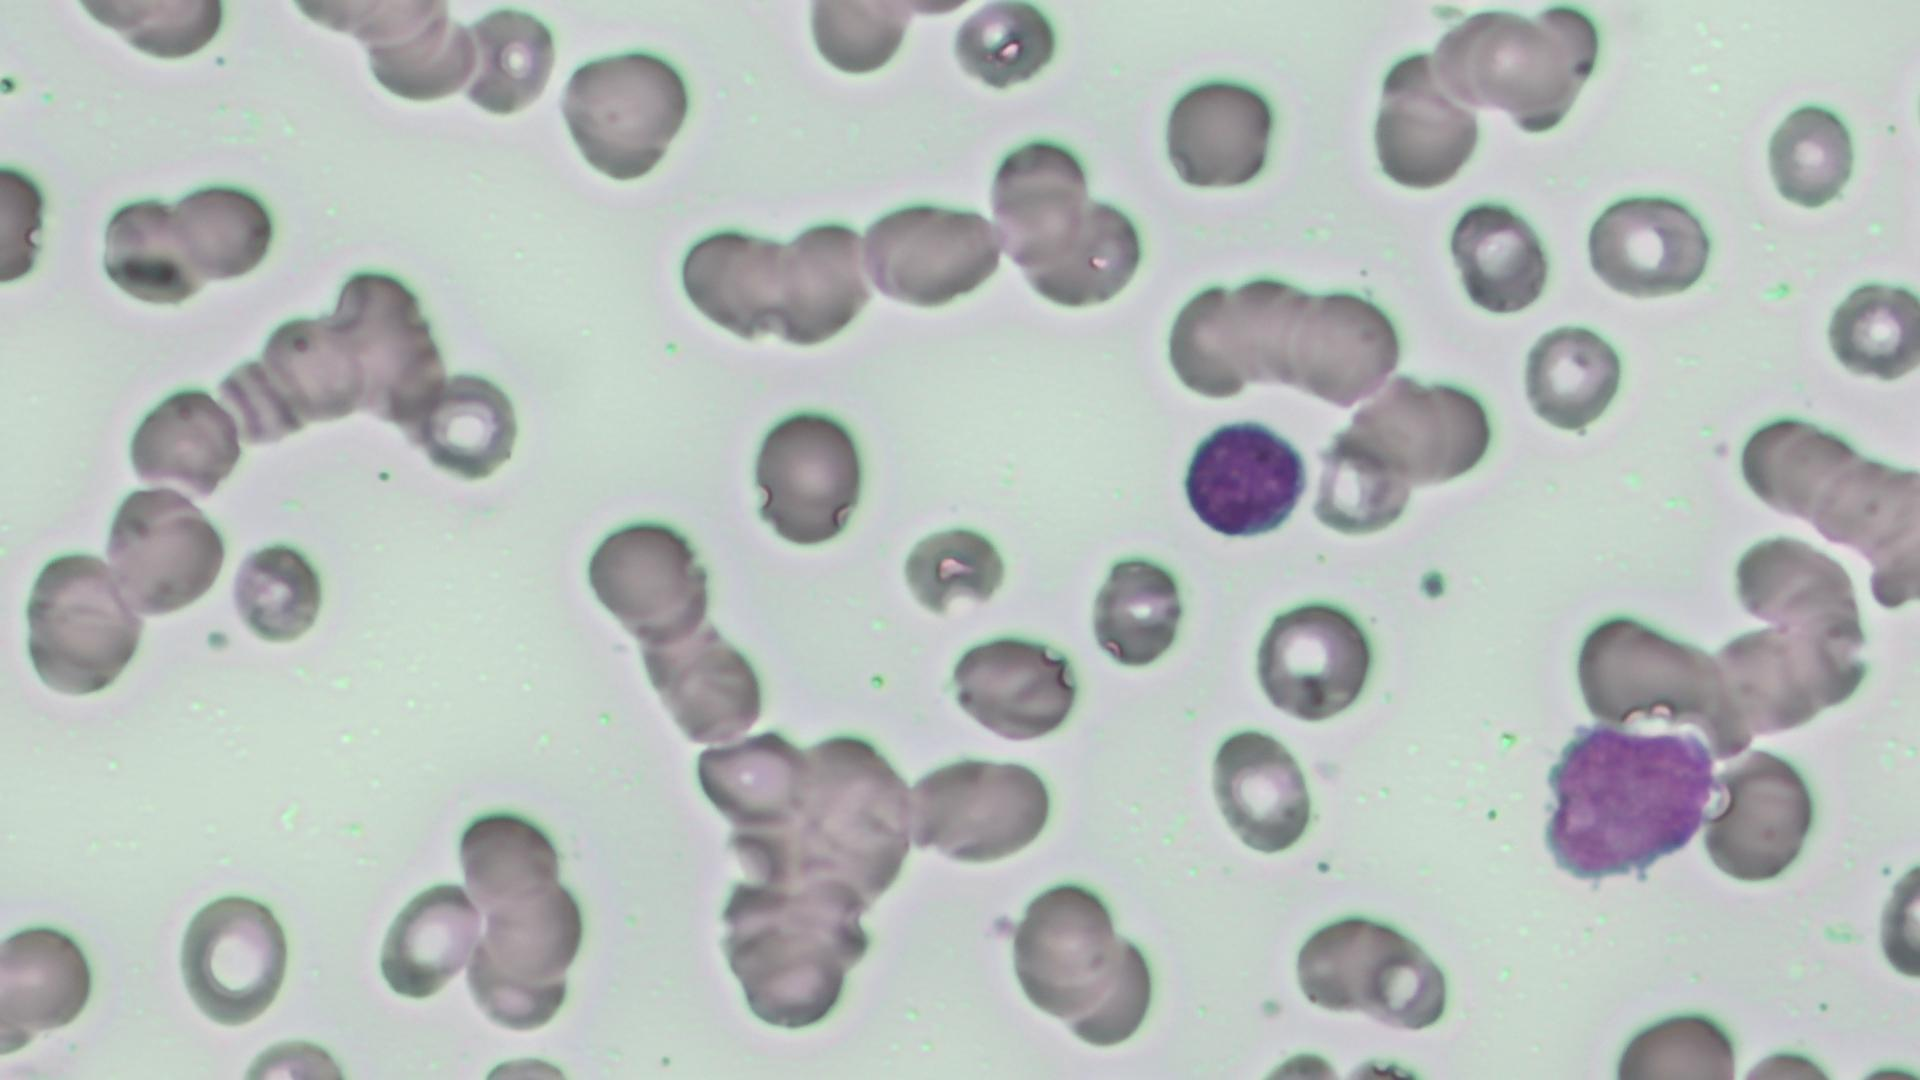Platelets: (1342, 1043, 1433, 1076), (1414, 564, 1455, 602)
RBC: (552, 38, 696, 190), (326, 259, 449, 436), (14, 543, 149, 699), (1334, 370, 1496, 492), (746, 400, 869, 550), (904, 749, 1058, 868), (854, 192, 1004, 313), (1287, 904, 1436, 1023), (1160, 273, 1297, 401), (99, 483, 226, 621), (171, 885, 294, 1026), (1006, 873, 1121, 1020), (1249, 592, 1378, 723), (942, 627, 1088, 742), (1701, 743, 1818, 886), (1154, 67, 1282, 197), (669, 224, 805, 346), (1582, 182, 1718, 303), (1460, 2, 1587, 130), (580, 509, 706, 634), (1515, 316, 1635, 447), (1205, 721, 1318, 857), (1288, 282, 1406, 410), (122, 381, 244, 500), (374, 873, 484, 1004), (1442, 196, 1557, 316), (1365, 70, 1480, 190), (470, 870, 590, 984), (261, 302, 366, 429), (96, 186, 206, 306), (1084, 549, 1191, 670), (451, 3, 557, 124), (1, 916, 100, 1045), (168, 172, 280, 283), (454, 800, 566, 910), (898, 514, 1012, 622), (1808, 449, 1916, 559), (1602, 1000, 1749, 1078), (798, 2, 918, 80), (0, 153, 53, 292), (1872, 841, 1920, 992)
WBC: (1534, 715, 1720, 884), (1174, 412, 1316, 544)
